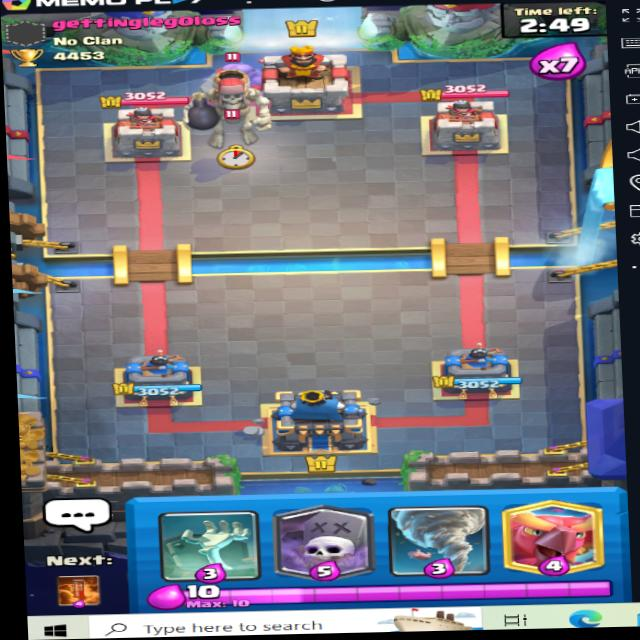bowler: (196, 47, 266, 100)
giant-skeleton: (182, 67, 274, 152)
